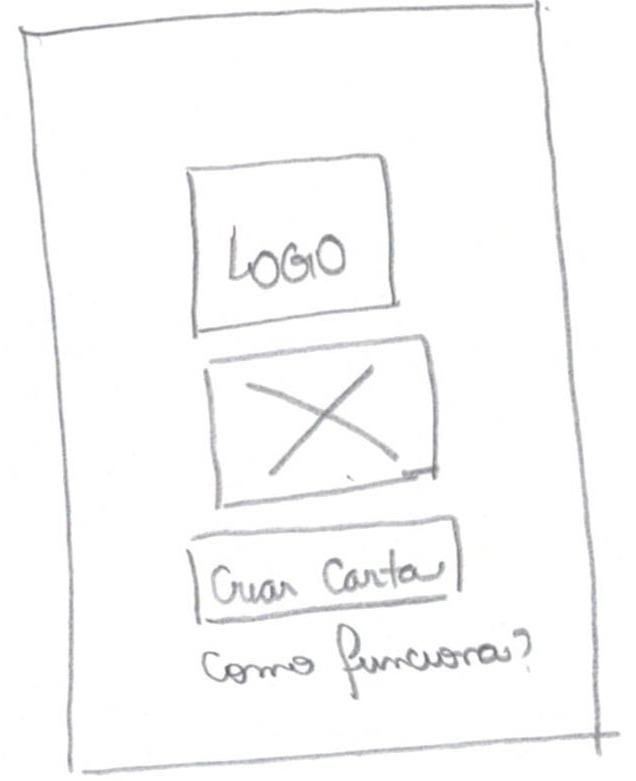Button: (187, 155, 397, 334), (184, 516, 464, 625)
Image: (196, 333, 441, 509)
Label: (196, 623, 538, 685)
Screen: (19, 3, 599, 775)
